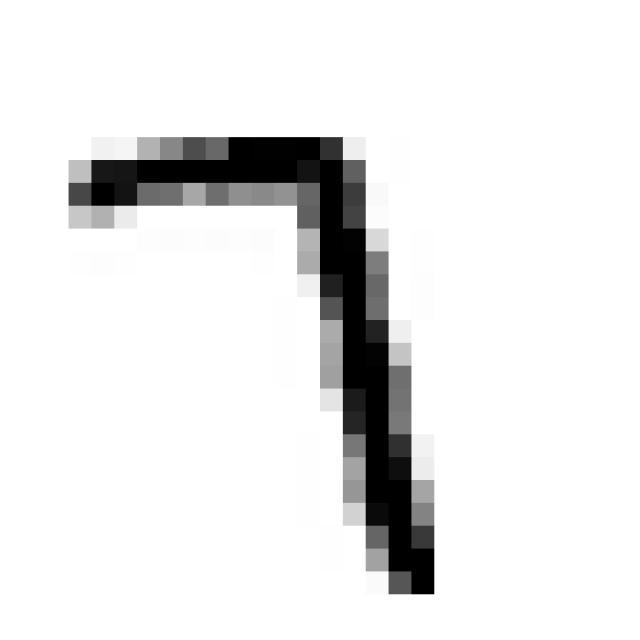6 -six-: (45, 112, 458, 616)
